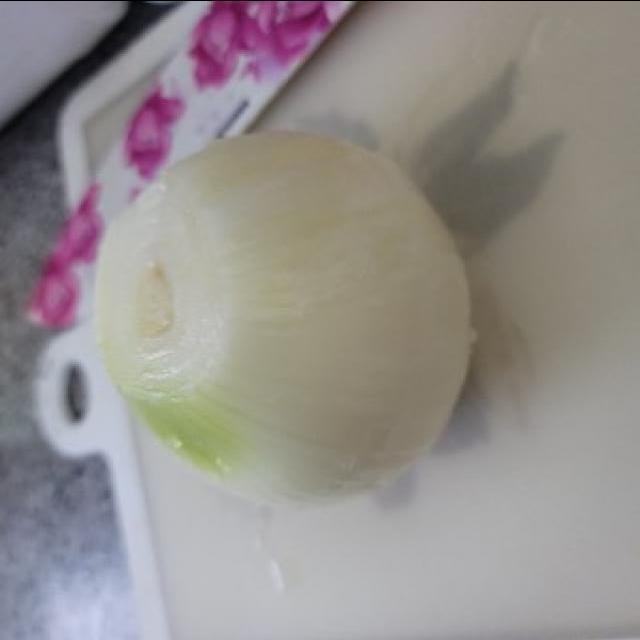Onion: (100, 132, 468, 501)
